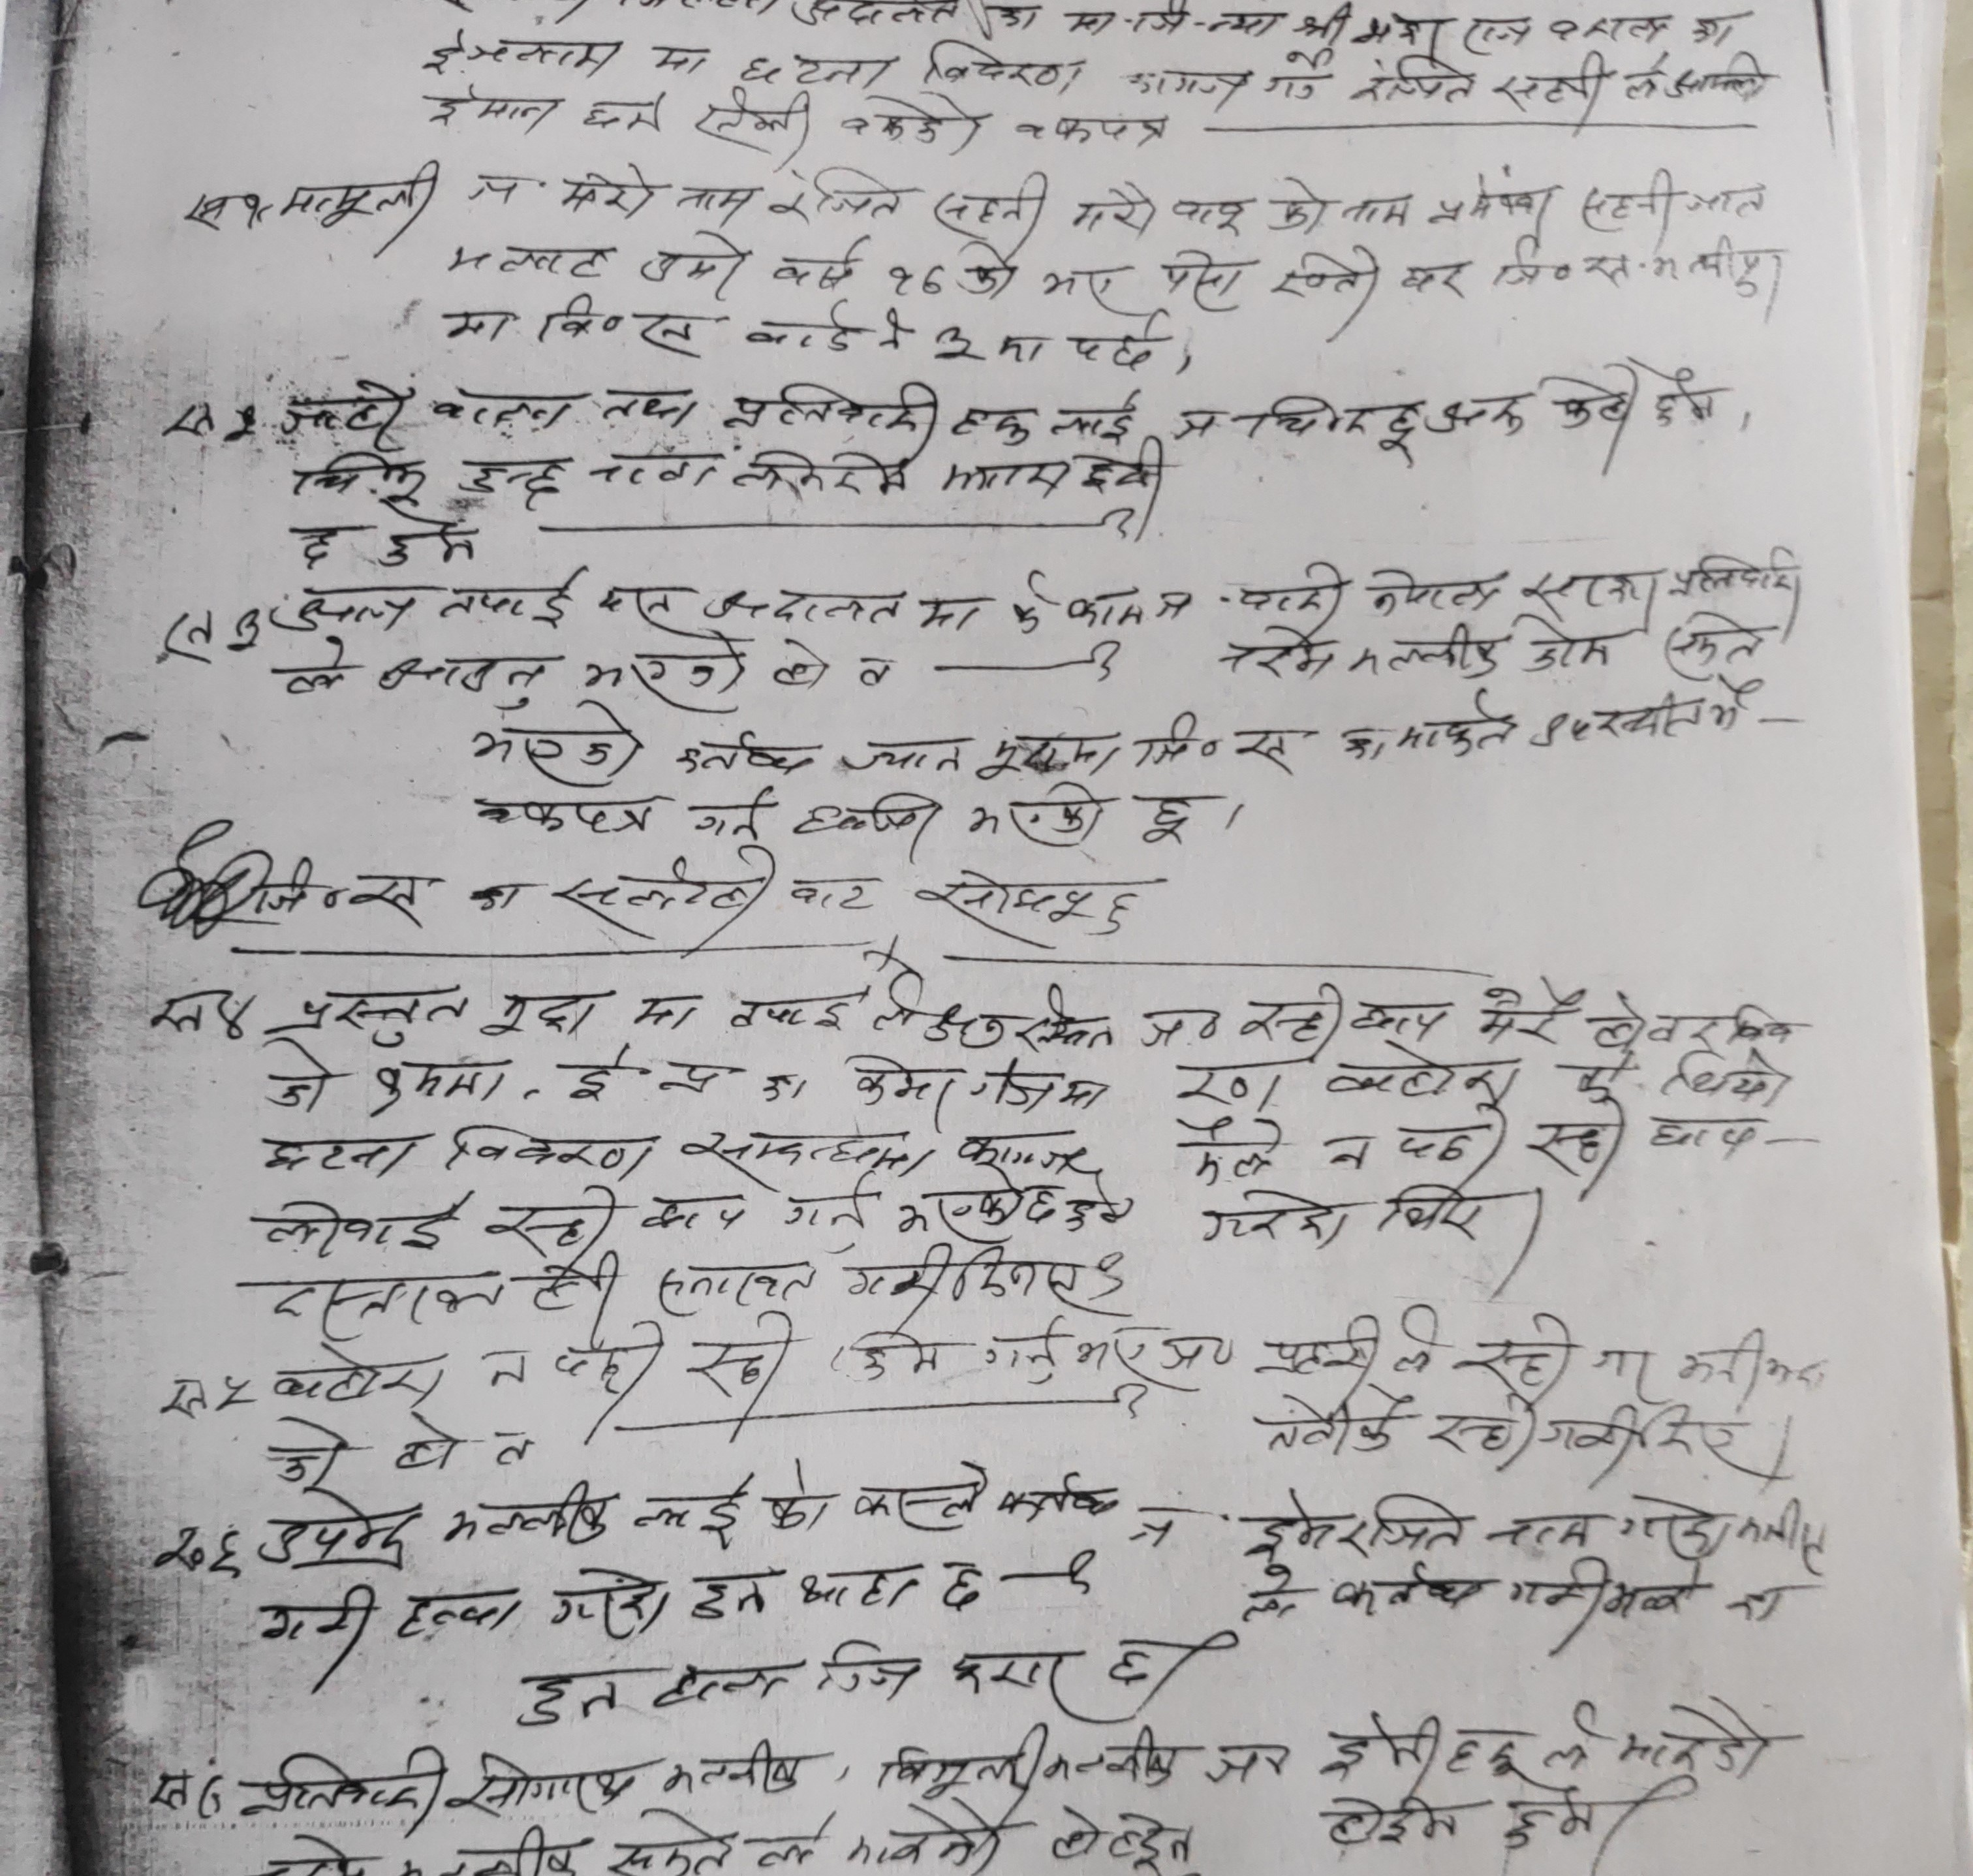text: (1242, 384, 1529, 467), (870, 969, 1119, 1053), (550, 846, 779, 934), (588, 444, 914, 502), (909, 870, 1157, 946), (1245, 1483, 1467, 1564), (243, 1742, 451, 1827), (252, 1272, 504, 1337), (877, 1716, 1050, 1807), (462, 706, 647, 791), (844, 1244, 1092, 1305), (705, 583, 986, 636), (680, 1124, 930, 1182), (259, 1487, 418, 1578), (720, 379, 944, 442), (1328, 1038, 1524, 1110), (1615, 1693, 1769, 1783), (248, 1193, 463, 1256), (268, 1339, 453, 1411), (442, 1478, 618, 1552), (684, 1309, 793, 1427), (447, 1751, 638, 1818), (534, 291, 710, 363), (576, 634, 752, 706), (1485, 229, 1682, 292), (421, 23, 629, 81), (447, 1124, 655, 1182), (275, 986, 470, 1048), (280, 160, 442, 234), (259, 1580, 382, 1677), (254, 860, 426, 928), (1253, 1388, 1416, 1459), (950, 384, 1140, 444), (1452, 1309, 1578, 1397), (377, 655, 555, 717), (1136, 712, 1304, 777), (854, 1457, 988, 1538), (483, 1180, 618, 1259), (437, 560, 588, 631), (1344, 618, 1504, 683), (1326, 1561, 1490, 1624), (1196, 1185, 1351, 1252), (1008, 562, 1147, 636), (965, 782, 1112, 851), (661, 1735, 810, 1802), (1665, 543, 1802, 615), (791, 787, 939, 854), (1318, 1707, 1439, 1786), (632, 1474, 756, 1552), (920, 37, 1089, 93), (1399, 683, 1519, 763), (893, 1166, 1023, 1238), (1522, 1099, 1628, 1187), (1268, 240, 1383, 321), (555, 1319, 666, 1402), (965, 1057, 1119, 1117), (546, 1562, 666, 1636), (655, 1258, 817, 1312), (1256, 1312, 1385, 1381), (280, 375, 405, 446), (972, 726, 1126, 782), (1504, 1550, 1608, 1633), (467, 791, 661, 835), (1314, 1793, 1459, 1851), (1161, 1050, 1289, 1115), (446, 234, 604, 287), (1647, 1001, 1806, 1053), (1494, 46, 1608, 118), (932, 169, 1052, 238), (430, 380, 580, 435), (691, 88, 816, 153), (259, 1133, 423, 1182), (1395, 1101, 1510, 1171), (1668, 1046, 1793, 1110), (1233, 978, 1348, 1046), (423, 83, 560, 139), (1674, 1325, 1767, 1407), (1374, 1178, 1492, 1244), (1615, 1496, 1733, 1561), (1665, 611, 1776, 680), (1427, 1397, 1534, 1467), (1548, 363, 1642, 444), (266, 583, 414, 634), (1543, 1399, 1645, 1473), (995, 1467, 1124, 1525), (1580, 164, 1679, 240), (634, 229, 749, 294), (292, 451, 425, 507), (676, 729, 817, 782), (372, 1057, 513, 1110), (844, 1050, 955, 1117), (396, 1589, 520, 1649), (1235, 560, 1348, 625), (1173, 1115, 1279, 1184), (1207, 627, 1342, 680), (824, 1328, 948, 1386), (481, 988, 608, 1045), (726, 978, 853, 1034), (513, 1668, 625, 1732), (1519, 615, 1622, 683), (1362, 567, 1506, 617), (955, 1129, 1099, 1178), (1476, 978, 1577, 1048), (648, 1661, 796, 1709), (1501, 1781, 1596, 1855), (1348, 55, 1480, 107), (1016, 109, 1175, 153), (796, 1559, 918, 1615), (787, 1175, 874, 1254), (978, 1316, 1075, 1386), (463, 451, 569, 513), (816, 1638, 918, 1702), (740, 299, 858, 354), (768, 234, 867, 298), (1443, 1717, 1533, 1786), (1647, 1110, 1763, 1163), (833, 736, 967, 782), (262, 1413, 347, 1483), (1159, 247, 1247, 314), (685, 1564, 775, 1629), (1515, 569, 1659, 609), (560, 164, 661, 222), (807, 166, 904, 225), (1068, 180, 1161, 241), (1117, 65, 1254, 106), (1039, 266, 1136, 322), (1483, 1506, 1596, 1554), (763, 1462, 833, 1538), (1064, 321, 1164, 373), (691, 782, 772, 846), (262, 1046, 338, 1113), (1538, 1696, 1603, 1772), (1645, 365, 1721, 428), (1348, 993, 1459, 1036), (1260, 46, 1335, 107), (595, 574, 671, 636), (275, 636, 349, 698), (638, 1191, 745, 1233), (580, 88, 675, 136), (789, 872, 881, 921), (951, 240, 1018, 307), (1591, 1339, 1659, 1404), (786, 48, 895, 88), (1140, 999, 1221, 1053), (601, 384, 701, 428), (1166, 187, 1249, 240), (1563, 1045, 1637, 1103), (1261, 174, 1328, 238), (1397, 259, 1482, 308), (1131, 791, 1200, 851), (565, 1043, 629, 1106), (1386, 1305, 1445, 1374), (675, 176, 761, 222), (627, 992, 710, 1038), (768, 636, 833, 694), (664, 1057, 736, 1108), (1679, 180, 1769, 220), (437, 307, 516, 351), (1339, 188, 1413, 234), (1585, 992, 1644, 1050), (645, 35, 715, 79), (886, 257, 951, 305), (1171, 386, 1217, 447), (1615, 49, 1668, 102), (939, 1559, 990, 1614), (925, 324, 983, 368), (1328, 1126, 1371, 1184), (994, 329, 1050, 368), (731, 46, 780, 88), (1342, 717, 1383, 768)
